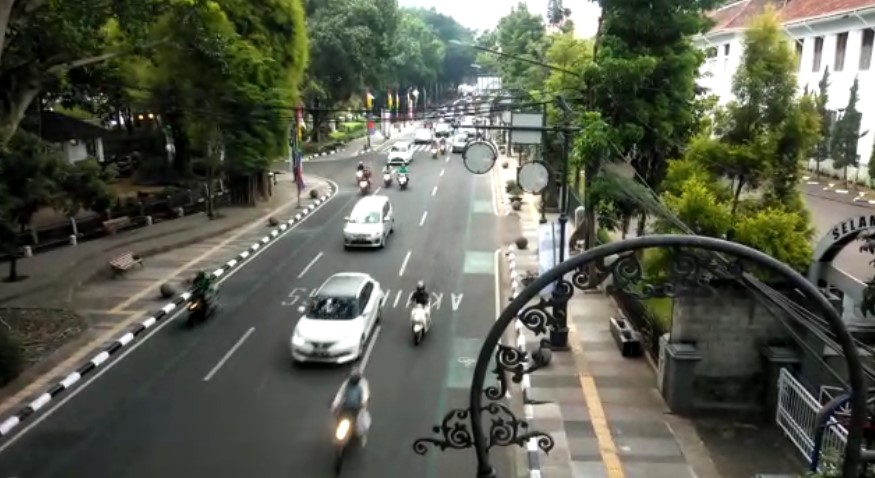mobil: (291, 270, 381, 369), (340, 194, 397, 252)
motor: (326, 374, 377, 472), (175, 275, 219, 327), (404, 283, 434, 346)
